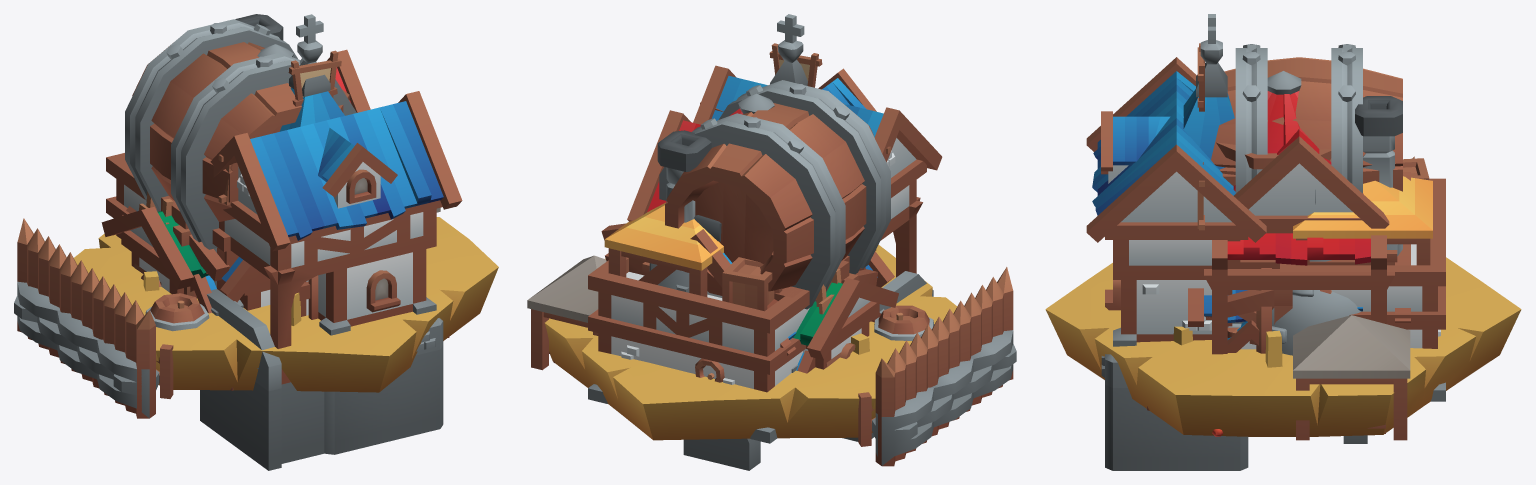
File: village.glb
3 views of the same model, side by side, from view 1: azimuth 30°, elevation 25°; view 2: azimuth 150°, elevation 25°; view 3: azimuth 270°, elevation 25° (orthographic). The views are drawn at different scales.
Visible parts, largest first — view 1: building_watermill_blue, building_tavern_red, building_grain, fence_wood_straight, fence_stone_straight, building_market_yellow, building_church_blue, building_blacksmith_green, building_home_B_red, building_windmill_top_fan_red; view 2: building_tavern_red, building_market_yellow, building_grain, building_watermill_blue, fence_wood_straight, fence_stone_straight, building_blacksmith_green, building_home_B_red, building_church_blue, building_windmill_top_fan_red, building_windmill_top_red; view 3: building_watermill_blue, building_grain, building_tavern_red, building_market_yellow, building_home_B_red, building_church_blue, building_windmill_top_red, building_blacksmith_green, building_windmill_top_fan_red, building_watermill_wheel_blue.
Boxes of the visible parts, x1,y1,x2,y2 form: building_watermill_blue: [200, 91, 462, 470]; building_tavern_red: [125, 19, 356, 307]; building_grain: [74, 217, 498, 392]; fence_wood_straight: [17, 218, 155, 418]; fence_stone_straight: [14, 281, 159, 418]; building_market_yellow: [106, 153, 449, 398]; building_church_blue: [122, 14, 344, 316]; building_blacksmith_green: [101, 206, 208, 294]; building_home_B_red: [235, 14, 370, 112]; building_windmill_top_fan_red: [218, 50, 341, 205]; building_tavern_red: [601, 80, 890, 382]; building_market_yellow: [527, 202, 934, 446]; building_grain: [544, 244, 957, 440]; building_watermill_blue: [683, 65, 942, 470]; fence_wood_straight: [875, 267, 1013, 466]; fence_stone_straight: [872, 330, 1016, 465]; building_blacksmith_green: [793, 277, 898, 369]; building_home_B_red: [627, 110, 789, 292]; building_church_blue: [638, 14, 894, 373]; building_windmill_top_fan_red: [700, 43, 890, 153]; building_windmill_top_red: [729, 93, 774, 115]; building_watermill_blue: [1086, 57, 1367, 470]; building_grain: [1045, 257, 1521, 436]; building_tavern_red: [1204, 44, 1402, 354]; building_market_yellow: [1147, 158, 1445, 440]; building_home_B_red: [1233, 96, 1402, 268]; building_church_blue: [1183, 14, 1410, 352]; building_windmill_top_red: [1216, 71, 1331, 169]; building_blacksmith_green: [1228, 189, 1360, 355]; building_windmill_top_fan_red: [1197, 43, 1204, 230]; building_watermill_wheel_blue: [1256, 268, 1331, 353].
Size of the model in its own units: 2.04 by 2 by 2.09.
Materials: 1 (1 with a texture image).
